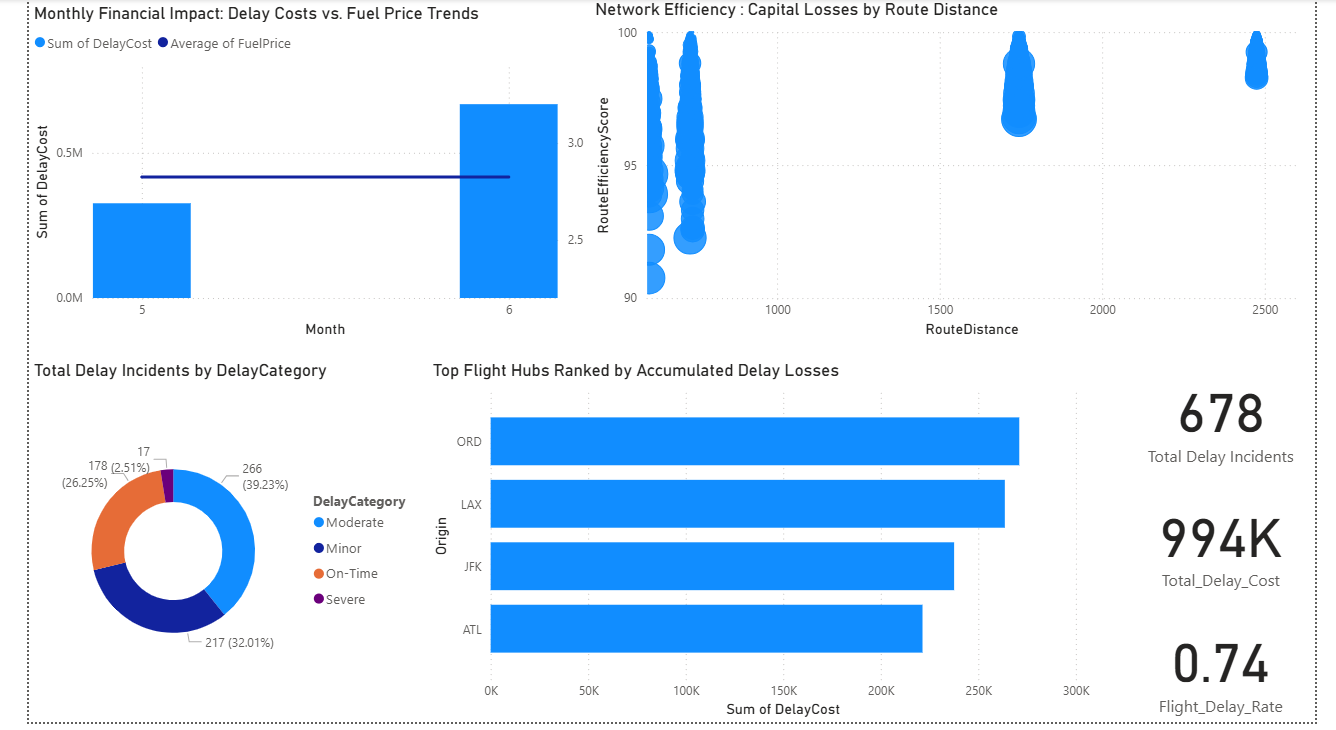

The page's visual inventory and layout, read from the dashboard file:
{"tool":"powerbi","page":{"name":"Executive Operations & Financial Performance","canvas":[1280,720],"ordinal":0},"visuals":[{"type":"lineStackedColumnComboChart","title":"Monthly Financial Impact: Delay Costs vs. Fuel Price Trends","fields":{"Category":["Dim_Date.Month"],"Y":["Sum(Fact_Flights.DelayCost)"],"Y2":["Avg(Dim_Fuel.FuelPrice)"]},"box":[0,4.1,579.1,337.6],"z":0},{"type":"scatterChart","title":" Network Efficiency : Capital Losses by Route Distance","fields":{"X":["Dim_Route.RouteDistance"],"Y":["Fact_Flights.RouteEfficiencyScore"],"Size":["Sum(Fact_Flights.DelayCost)"]},"box":[558.5,0,721.8,341.7],"z":1000},{"type":"clusteredBarChart","title":"Top Flight Hubs Ranked by Accumulated Delay Losses","fields":{"Category":["Dim_Route.Origin","Dim_Route.Destination"],"Y":["Sum(Fact_Flights.DelayCost)"]},"box":[396.6,359.5,664.2,360.9],"z":2000},{"type":"card","fields":{"Values":["Dim_Airport.Flight_Delay_Rate"]},"box":[1092.3,607.9,188,112.5],"z":3000},{"type":"card","fields":{"Values":["Dim_Airport.Total_Delay_Cost"]},"box":[1092.3,480.3,188,119.4],"z":4000},{"type":"card","fields":{"Values":["Dim_Airport.Total Delay Incidents"]},"box":[1092.3,359.5,188,112.5],"z":5000},{"type":"donutChart","title":"Total Delay Incidents by DelayCategory","fields":{"Category":["Fact_Delays.DelayCategory"],"Y":["Dim_Airport.Total Delay Incidents"]},"box":[0,359.5,396.6,360.9],"z":6000}]}

Visuals, with their boxes in screenshot pixels (x1, y1, x2, y2), scaled from the page's 1280x720 canvas onto the 1336x730 screenshot:
"Monthly Financial Impact: Delay Costs vs. Fuel Price Trends" lineStackedColumnComboChart: <box>0,4,604,346</box>
" Network Efficiency : Capital Losses by Route Distance" scatterChart: <box>583,0,1335,346</box>
"Top Flight Hubs Ranked by Accumulated Delay Losses" clusteredBarChart: <box>414,364,1107,729</box>
card - Dim_Airport.Flight_Delay_Rate: <box>1140,616,1335,729</box>
card - Dim_Airport.Total_Delay_Cost: <box>1140,487,1335,608</box>
card - Dim_Airport.Total Delay Incidents: <box>1140,364,1335,479</box>
"Total Delay Incidents by DelayCategory" donutChart: <box>0,364,414,729</box>
